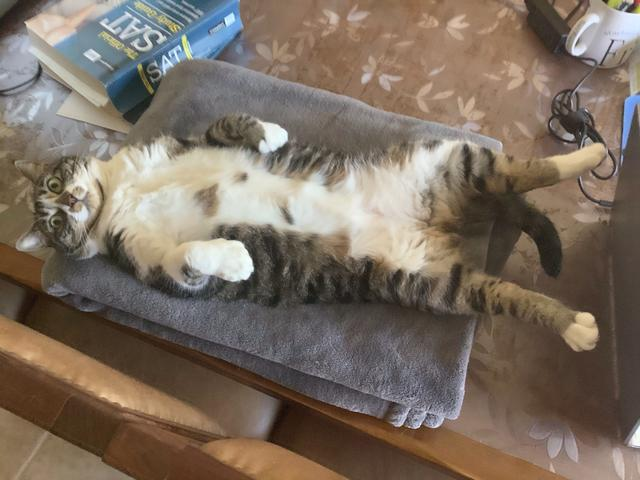playdoh: (14, 115, 609, 353)
